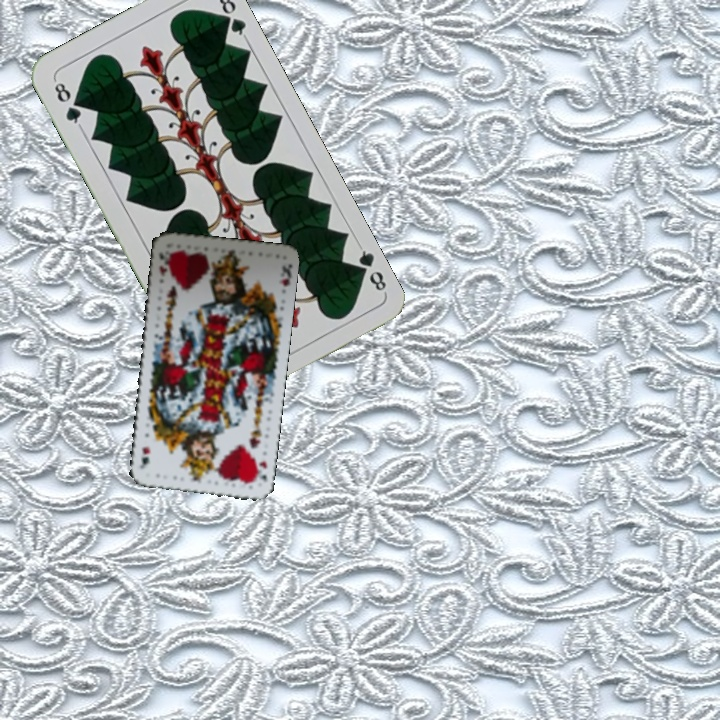G8: (349, 241, 389, 294), (50, 76, 85, 130)
HK: (250, 455, 270, 485), (154, 248, 172, 278)
